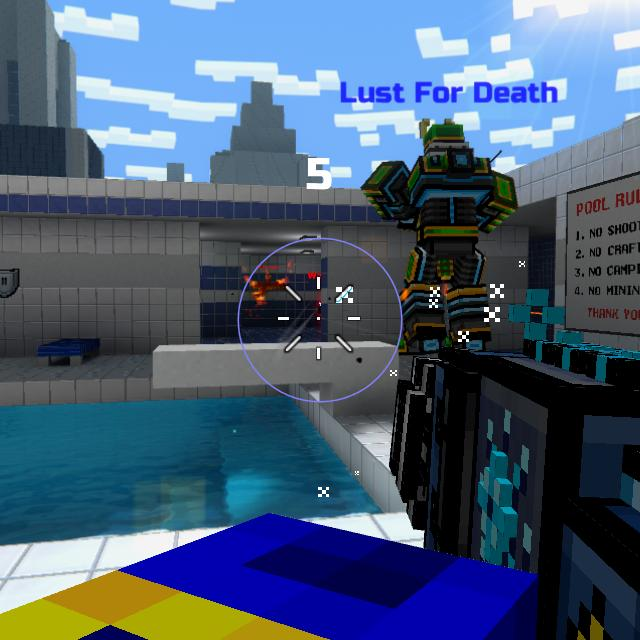Enemy: (316, 294, 321, 334)
